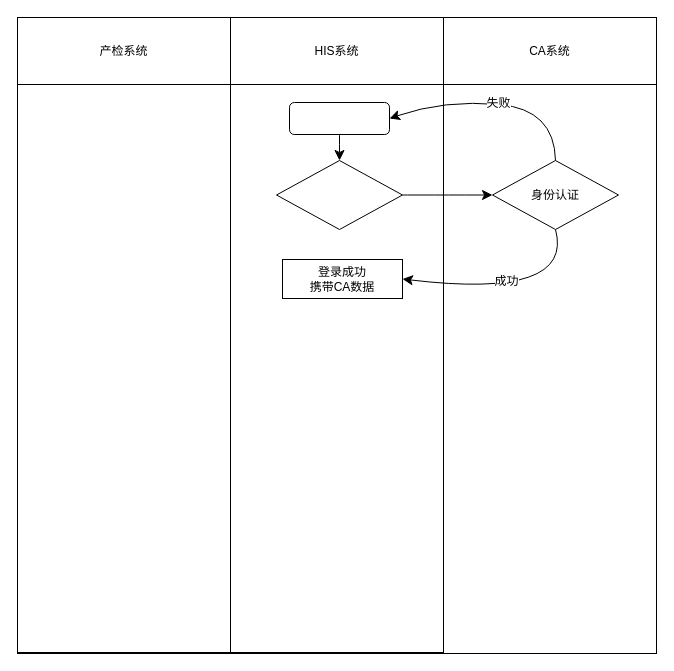
Image size: 674x671. Some labels were removed from this diagram. The shapes that lost their labels are listed below. From the top down, each one's centre as x and y in pixels, then its label:
At (x=339, y=118): "登录".
At (x=339, y=195): "CA_token 获取并认证".
